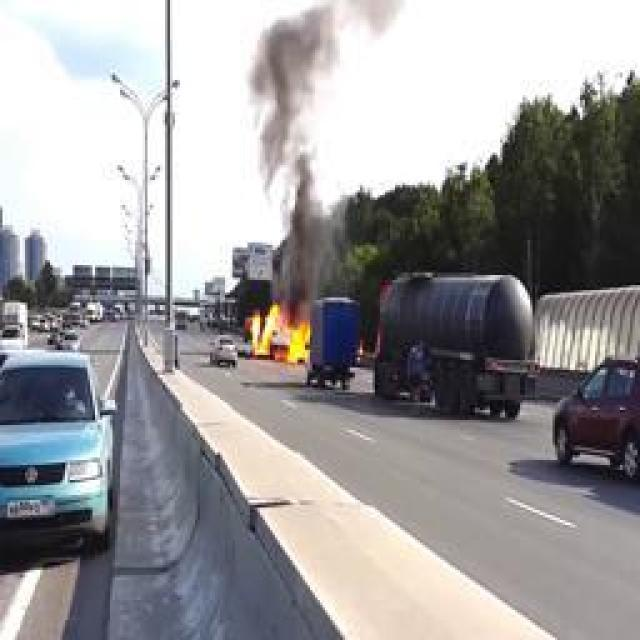Fire: (250, 305, 310, 363)
